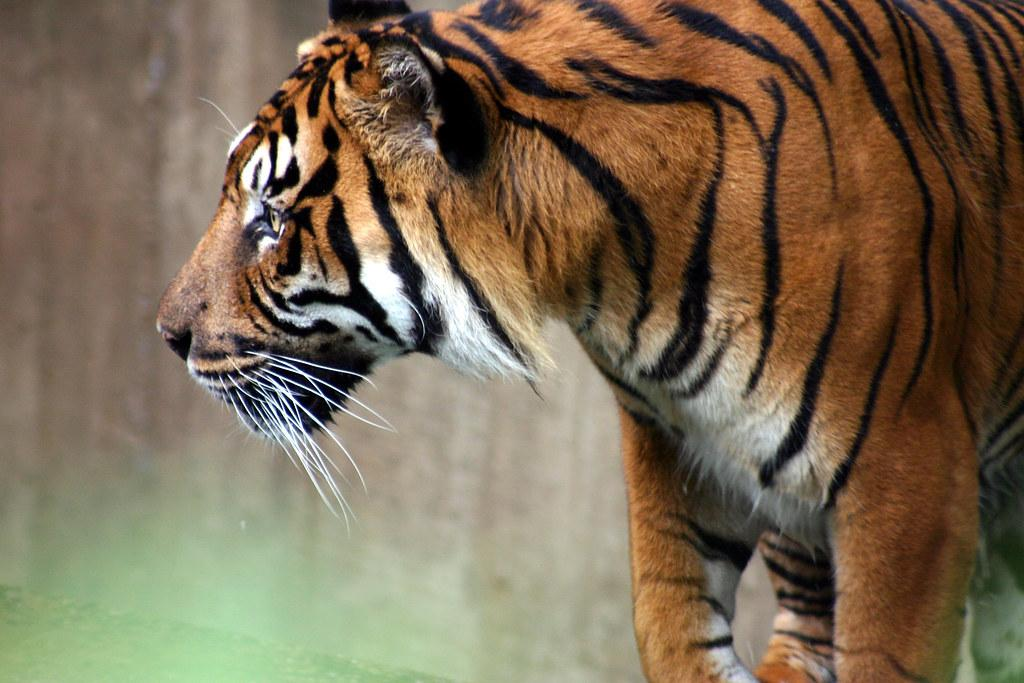tiger: (155, 1, 1023, 682)
